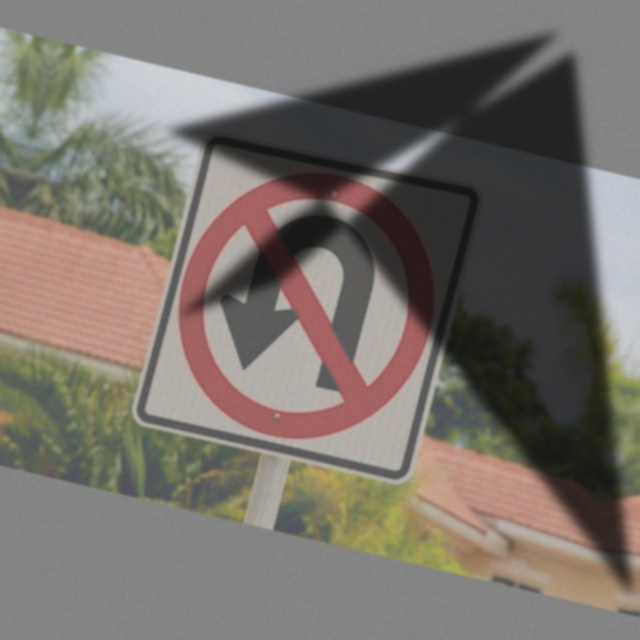U_Turn_Prohibited: (152, 139, 469, 472)
